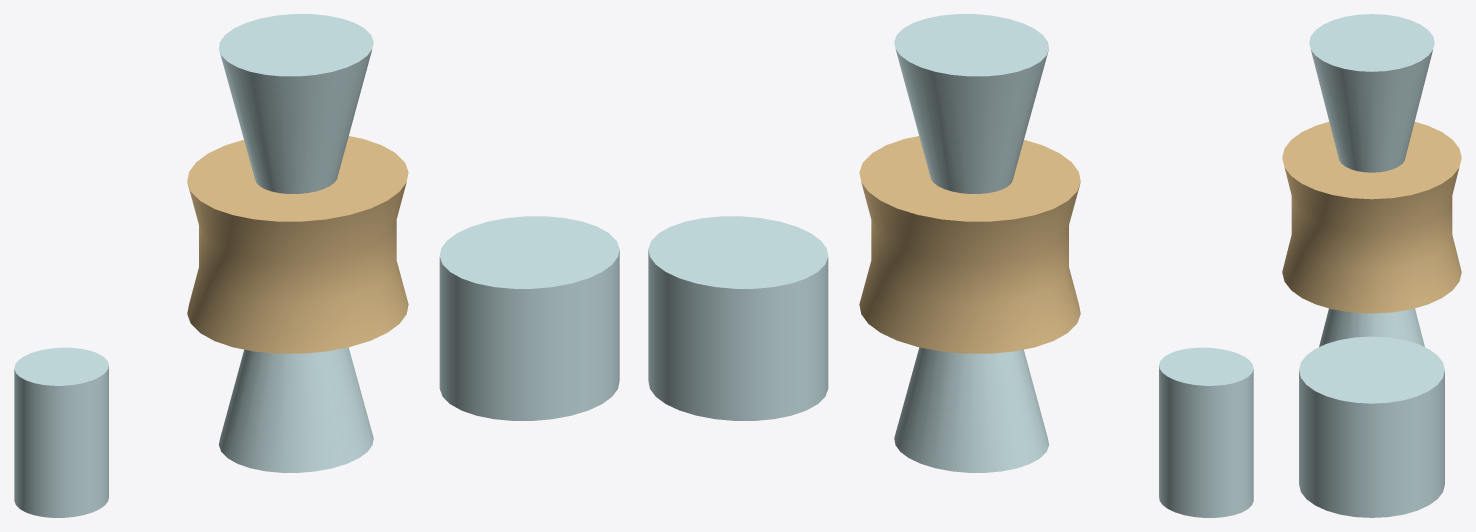
File: Ornament.fbx
The picture shows the model from 3 angles, left to right: view 1: azimuth 30°, elevation 25°; view 2: azimuth 150°, elevation 25°; view 3: azimuth 270°, elevation 25°; orthographic projection. The views are drawn at different scales.
Visible parts, largest first — view 1: Ornament; view 2: Ornament; view 3: Ornament.
Part boxes in pixels (x1,y1,x2,y2): Ornament: [14, 14, 619, 517]; Ornament: [648, 14, 1253, 517]; Ornament: [1282, 14, 1461, 517].
Bounding box in the file's own units: 45.8 × 29.45 × 13.98.
